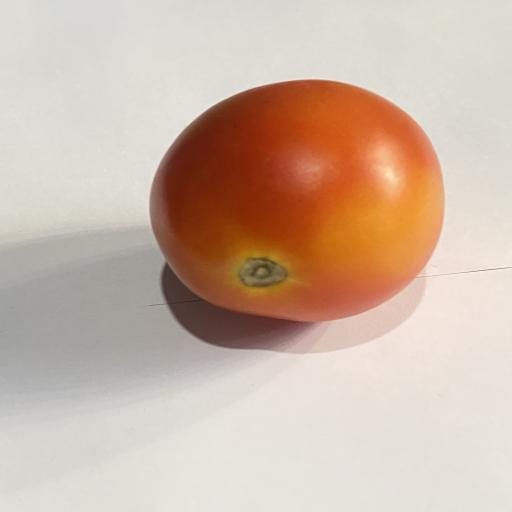ripe: (150, 80, 444, 321)
